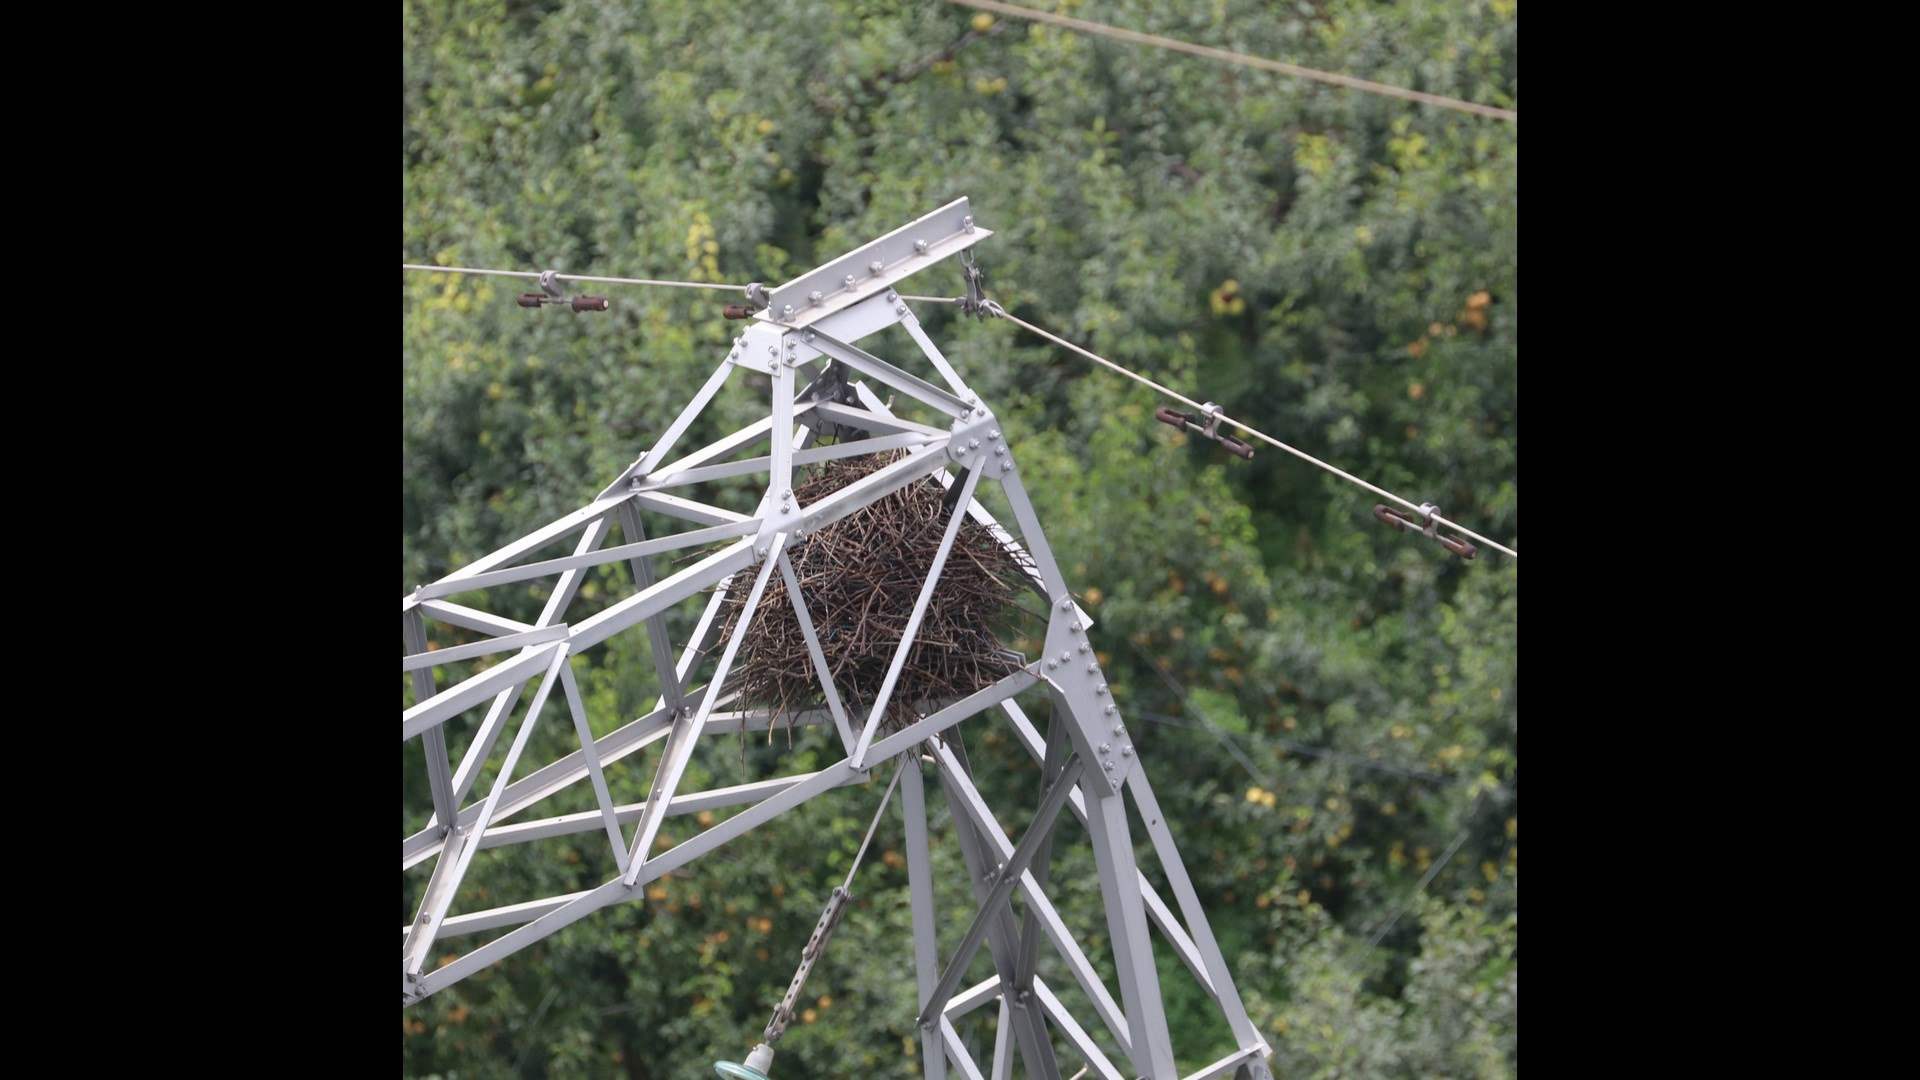niaowo: (717, 444, 1039, 720)
